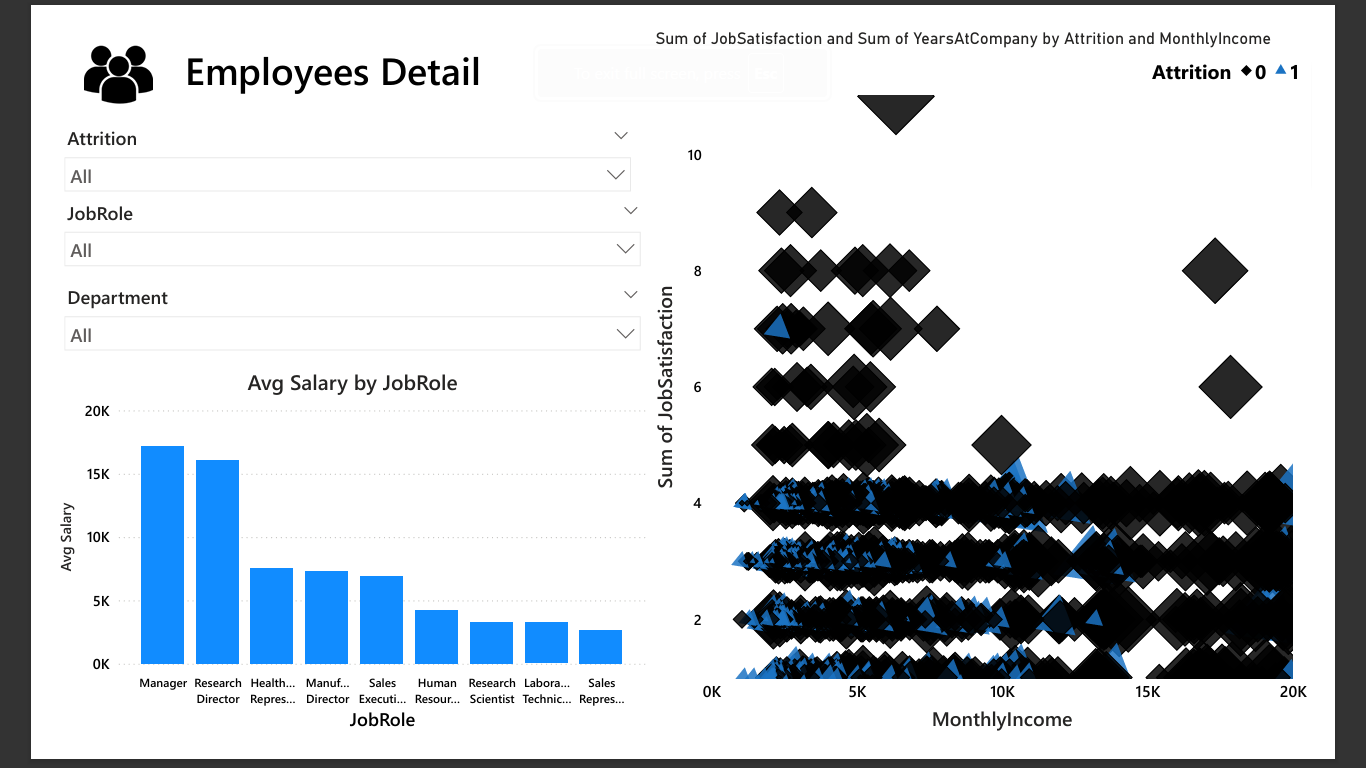

This screenshot's page, from the dashboard's own definition file:
{"tool":"powerbi","page":{"name":"Employees Detail","canvas":[1280,720],"ordinal":2},"visuals":[{"type":"scatterChart","fields":{"X":["hr_clean.MonthlyIncome"],"Y":["Sum(hr_clean.JobSatisfaction)"],"Series":["hr_clean.Attrition"],"Size":["Sum(hr_clean.YearsAtCompany)"]},"box":[606.7,0,673.3,720],"z":0},{"type":"columnChart","fields":{"Category":["hr_clean.JobRole"],"Y":["hr_clean.Avg Salary"]},"box":[0,345,606.7,375],"z":1000},{"type":"slicer","fields":{"Values":["hr_clean.Attrition"]},"box":[0,94.3,597.1,75.7],"z":2000},{"type":"slicer","fields":{"Values":["hr_clean.JobRole"]},"box":[0,170,607.1,85.7],"z":3000},{"type":"slicer","fields":{"Values":["hr_clean.Department"]},"box":[0,255.7,607.1,90],"z":4000},{"type":"shape","box":[20,0,526.7,81.7],"z":5000},{"type":"image","box":[0,11.7,130,70],"z":6000}]}

Visuals, with their boxes in screenshot pixels (x1, y1, x2, y2), scaled from the page's 1280x720 canvas onto the 1366x768 screenshot:
scatterChart - hr_clean.MonthlyIncome x Sum(hr_clean.JobSatisfaction): (x1=647, y1=0, x2=1365, y2=767)
columnChart - hr_clean.JobRole x hr_clean.Avg Salary: (x1=0, y1=368, x2=647, y2=767)
slicer - hr_clean.Attrition: (x1=0, y1=101, x2=637, y2=181)
slicer - hr_clean.JobRole: (x1=0, y1=181, x2=648, y2=273)
slicer - hr_clean.Department: (x1=0, y1=273, x2=648, y2=369)
shape: (x1=21, y1=0, x2=583, y2=87)
image: (x1=0, y1=12, x2=139, y2=87)
